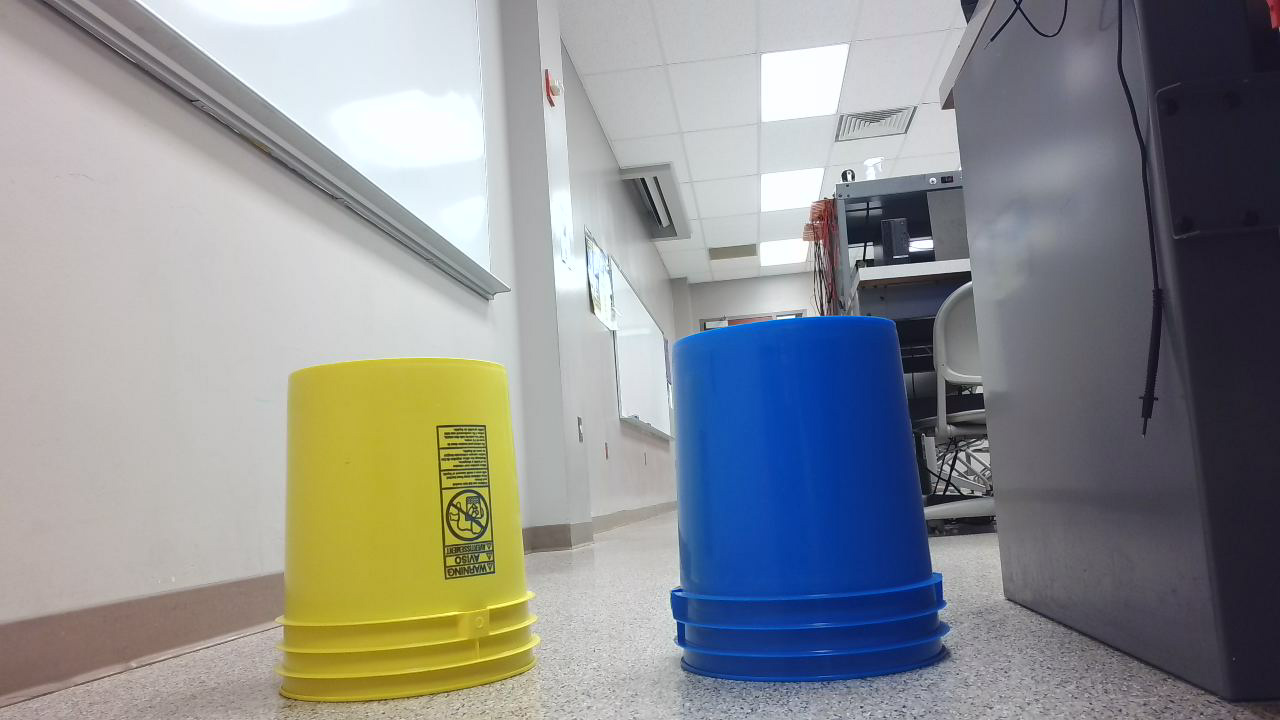blue_bucket: (669, 318, 959, 692)
yellow_bucket: (277, 357, 553, 713)
